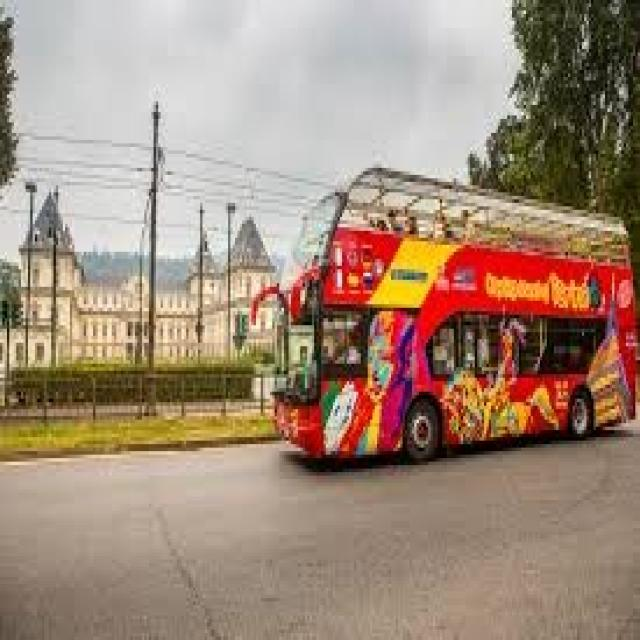bus: (272, 200, 640, 459)
